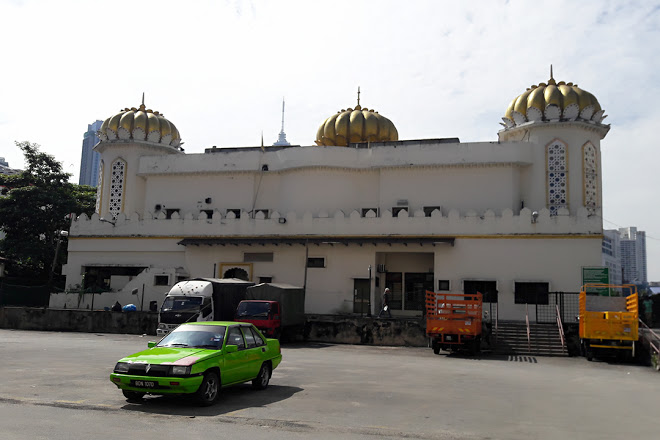Gurdwara: (59, 71, 595, 342)
